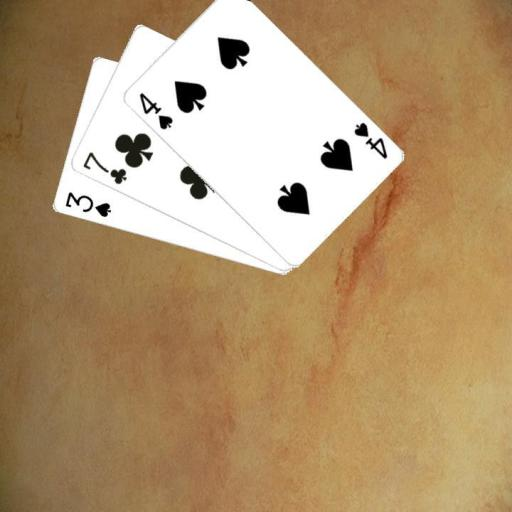3S: (62, 189, 113, 219)
4S: (136, 90, 174, 132), (350, 119, 388, 161)
7C: (79, 149, 128, 186)
